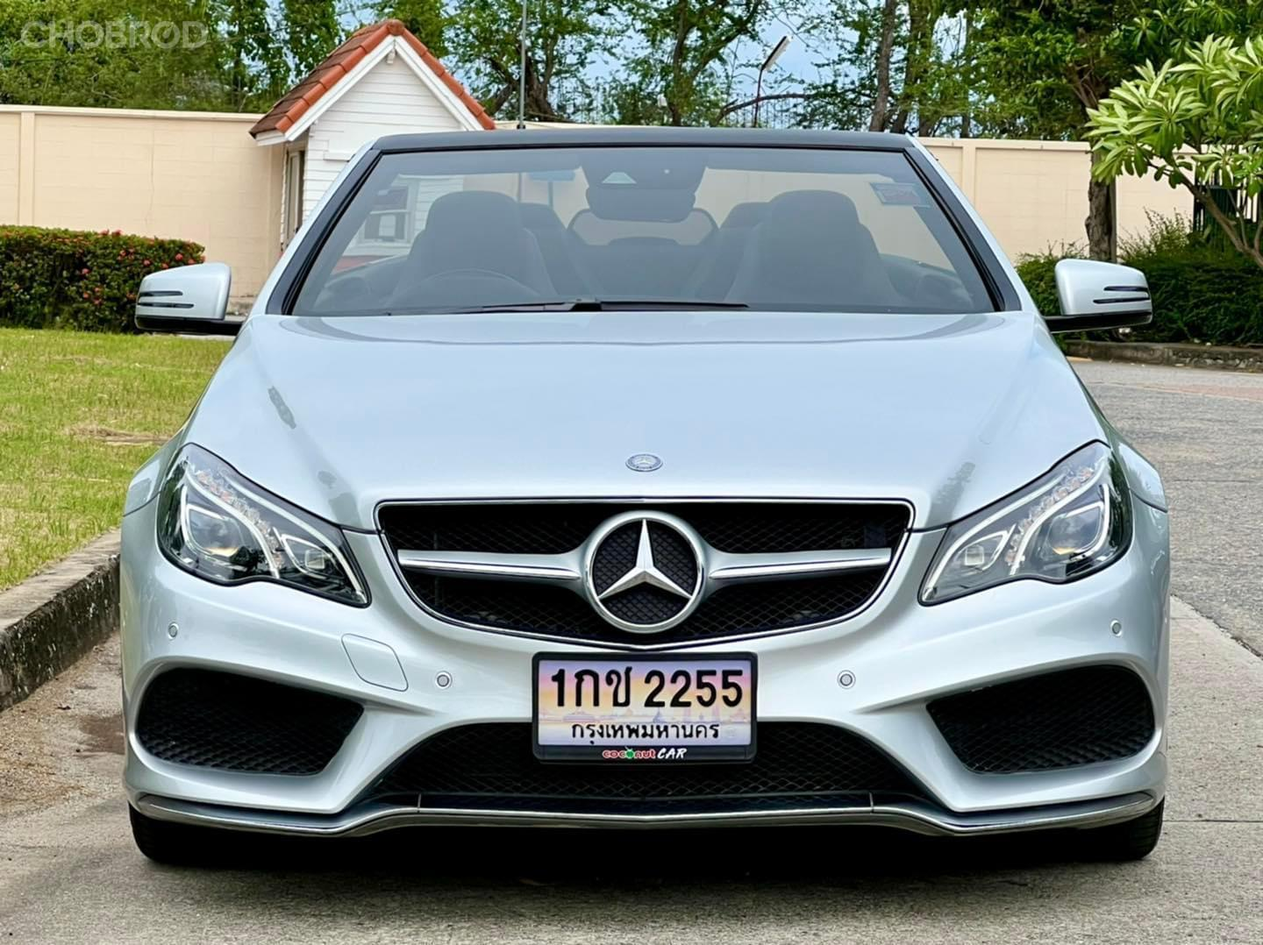license-plate: (530, 649, 760, 762)
